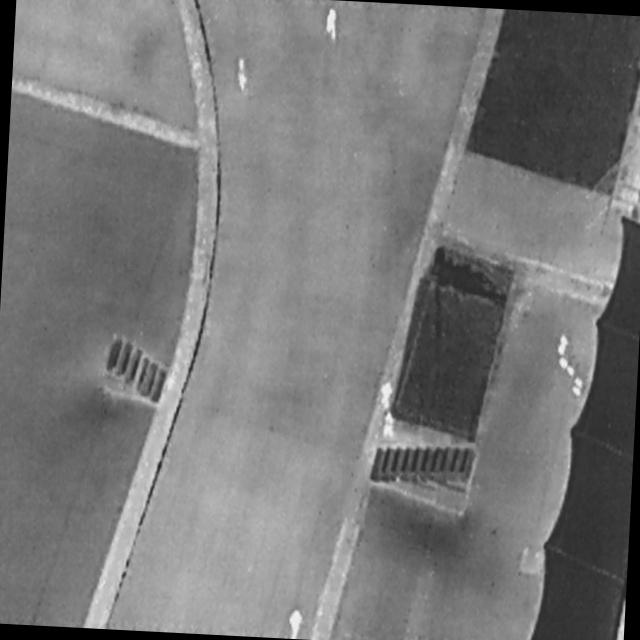person: (235, 58, 251, 94), (288, 609, 306, 640), (324, 10, 341, 41), (384, 413, 397, 439), (382, 381, 393, 409)
